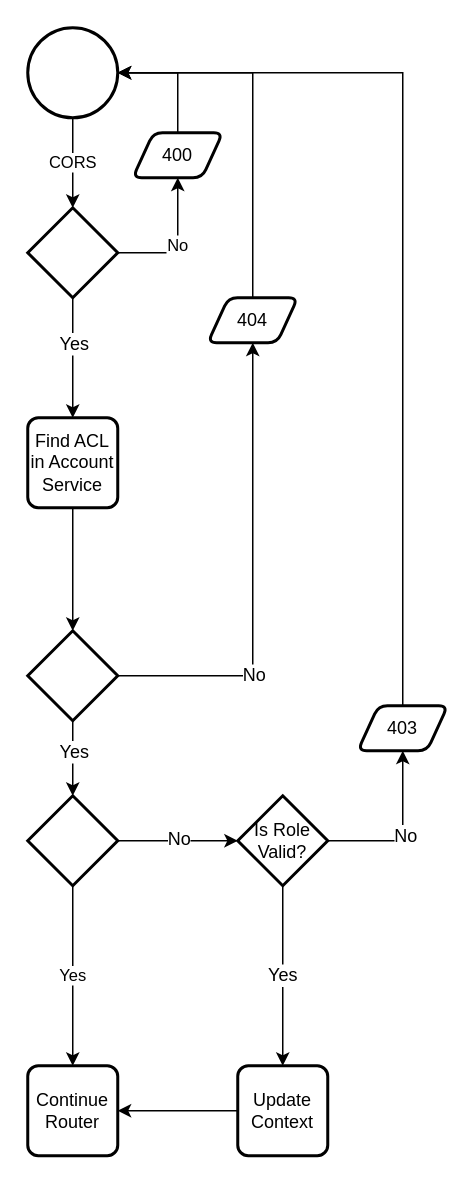
Some shapes in this 474 by 1182 pixel diagram are drawn without their labels. Here are the shapes that lost their labels. From the top down, the centre of each, then its label:
point 72,72: User Request
point 72,252: Is Valid?
point 72,675: Found?
point 72,840: Is Public?
